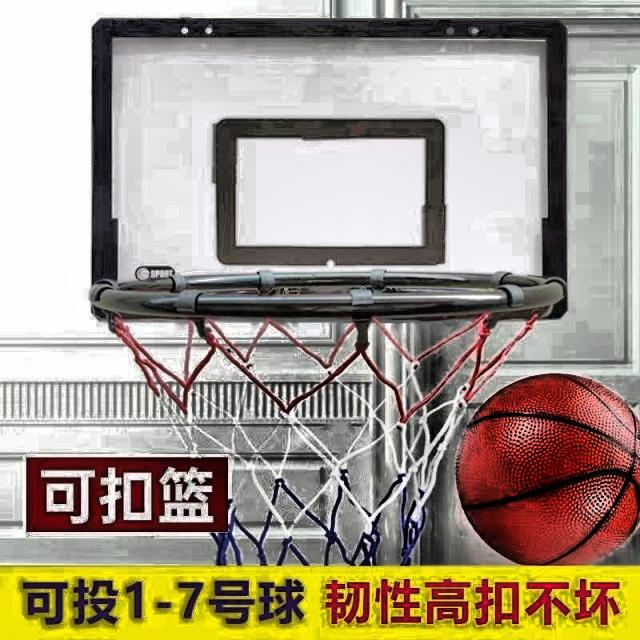board: (455, 374, 640, 565)
rim: (80, 273, 531, 567)
